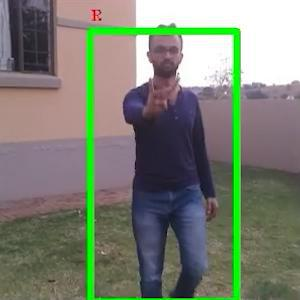takeoff-hand: (134, 66, 184, 121)
